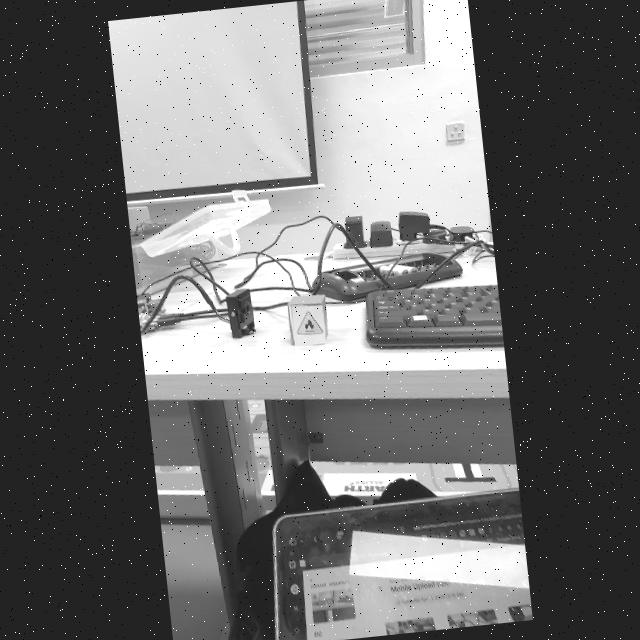Fire: (297, 312, 323, 335)
